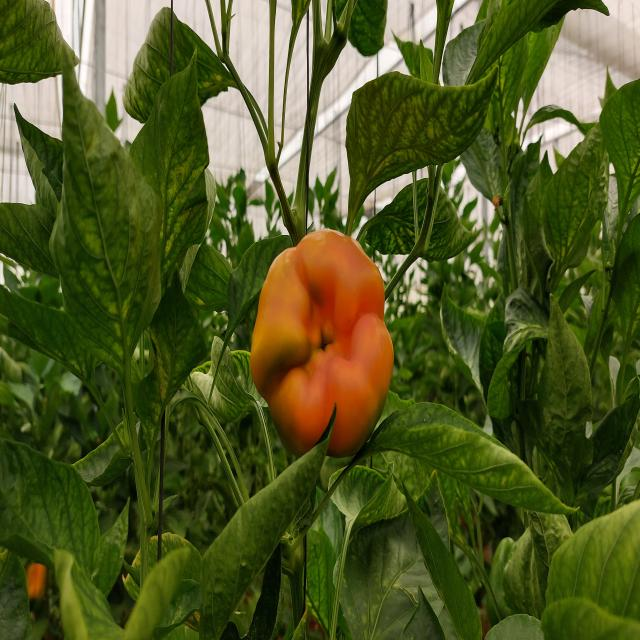Yellow-Ready-to-Harvest: (247, 226, 397, 463)
